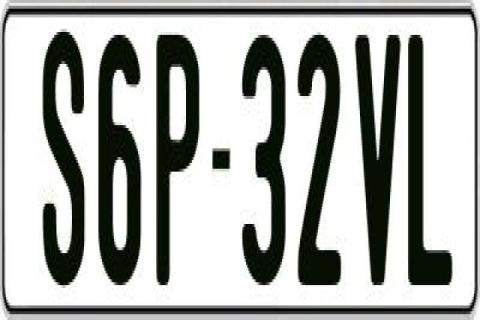0: (240, 32, 284, 296), (96, 29, 140, 282), (297, 27, 341, 280)
L: (406, 27, 456, 280)
P: (155, 35, 197, 303)
S: (40, 32, 88, 288)
V: (352, 35, 400, 291)
